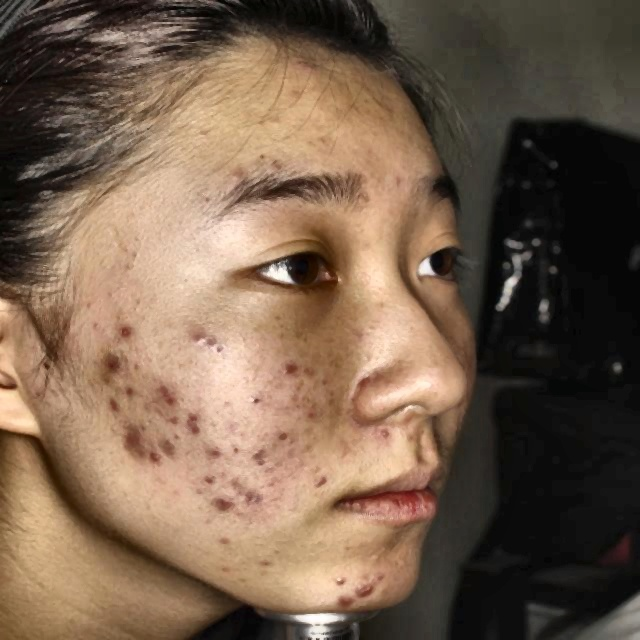papule: (98, 351, 133, 390), (230, 484, 266, 511), (115, 316, 147, 346), (216, 168, 256, 191), (354, 572, 381, 606), (287, 54, 322, 78), (160, 382, 186, 410), (268, 414, 290, 444), (179, 413, 205, 438), (212, 497, 238, 522), (273, 360, 303, 381), (183, 330, 212, 350), (196, 439, 230, 456), (146, 441, 164, 472), (327, 564, 355, 582), (330, 586, 350, 611), (122, 432, 144, 454), (194, 468, 220, 486), (160, 430, 180, 452), (366, 425, 391, 441), (251, 446, 268, 469), (118, 422, 144, 437), (108, 403, 128, 411)
